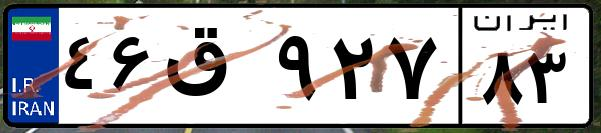2: (330, 28, 385, 110)
3: (525, 38, 570, 115)
4: (57, 26, 110, 100)
6: (110, 28, 158, 98)
7: (385, 28, 445, 110)
8: (475, 38, 525, 113)
9: (270, 28, 330, 110)
ق: (158, 20, 270, 120)
